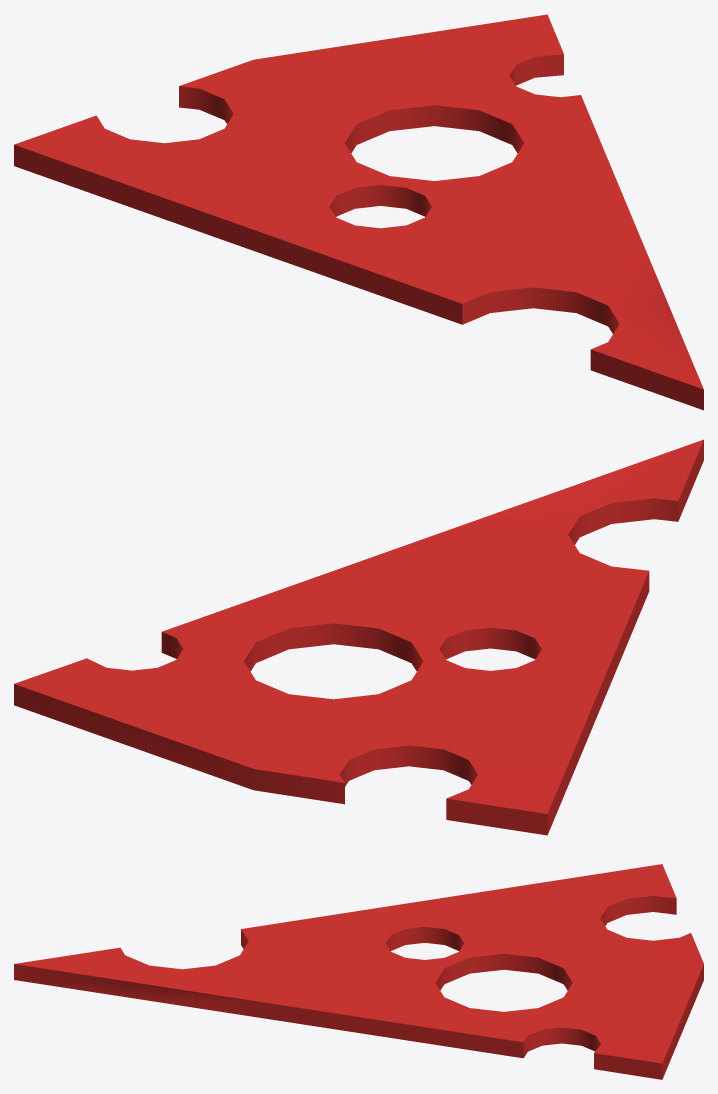
The model's file is Сheese_04.fbx.
3 renders of one model, top to bottom at view 1: azimuth 30°, elevation 25°; view 2: azimuth 150°, elevation 25°; view 3: azimuth 270°, elevation 25°, orthographic. The views are drawn at different scales.
Visible parts, largest first — view 1: Сheese_04; view 2: Сheese_04; view 3: Сheese_04.
Boxes of the visible parts, x1,y1,x2,y2 form: Сheese_04: (14,14,703,410); Сheese_04: (14,439,703,835); Сheese_04: (14,864,703,1079).
Bounding box in the file's own units: 74.98 × 110 × 2.88.
